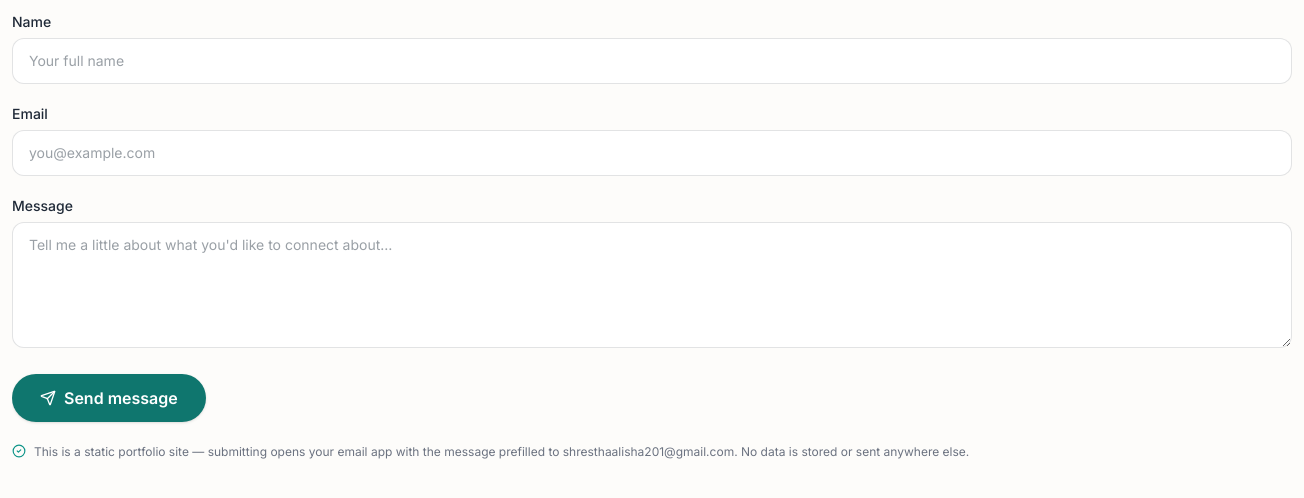
ContactForm validation › flags an invalid email with an accessible error
Type "not-an-email" into the field labelled "Email" at (652, 153), box 12,130 -> 1292,176
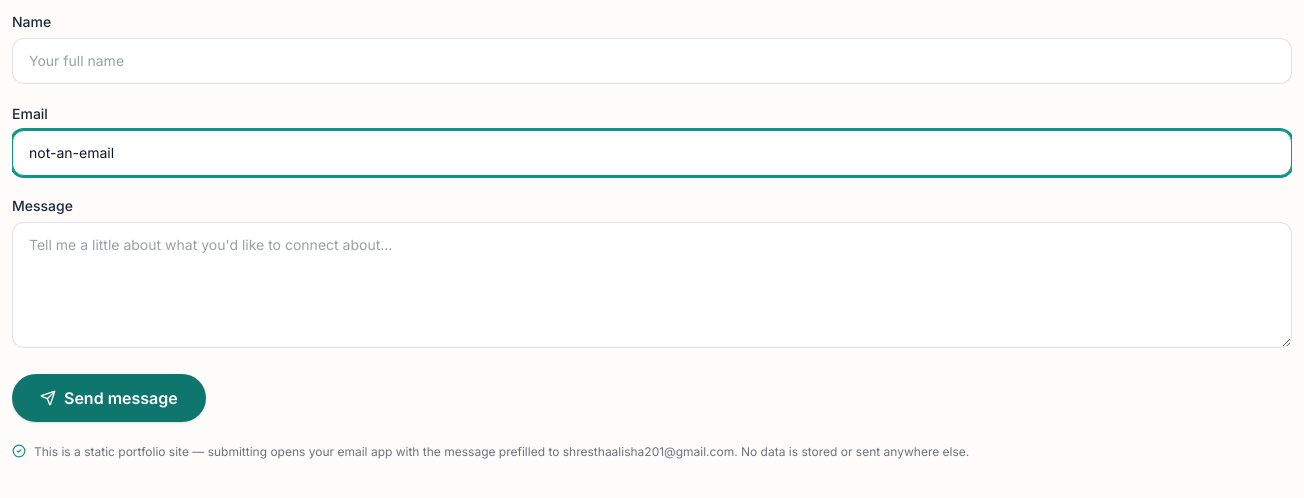
Press Tab
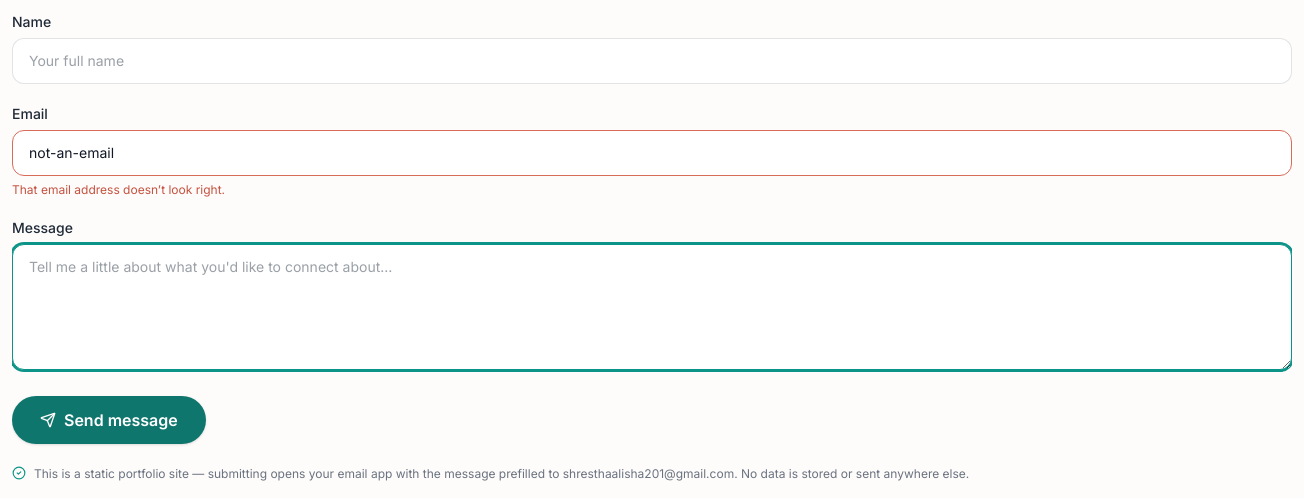
expect the text "That email address doesn’t look right." is shown: met, box 12,182 -> 225,197
